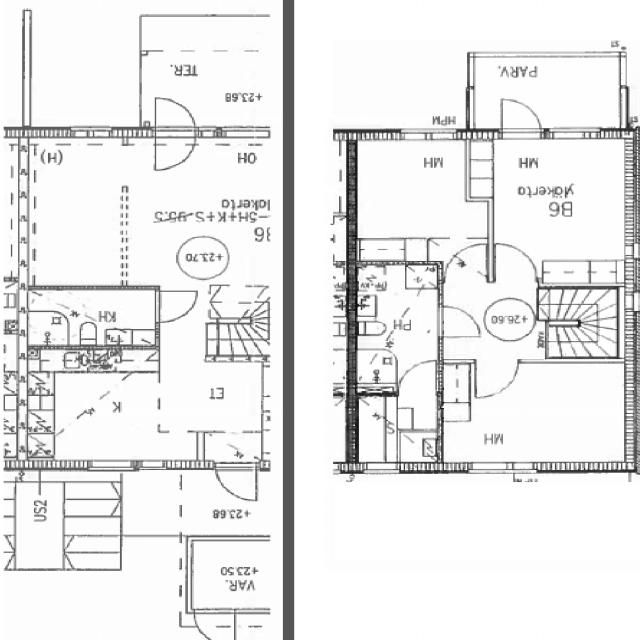door: (155, 127, 195, 170), (155, 94, 195, 137), (502, 97, 542, 140), (216, 461, 256, 503), (476, 359, 517, 397), (445, 245, 486, 283), (496, 246, 536, 283), (398, 360, 436, 396), (155, 291, 197, 322), (195, 609, 234, 640), (438, 307, 478, 336)
